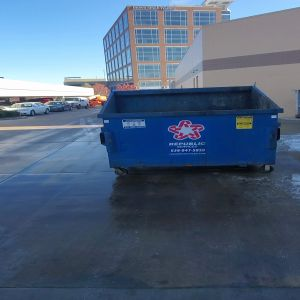Dumpster: (97, 86, 284, 177)
